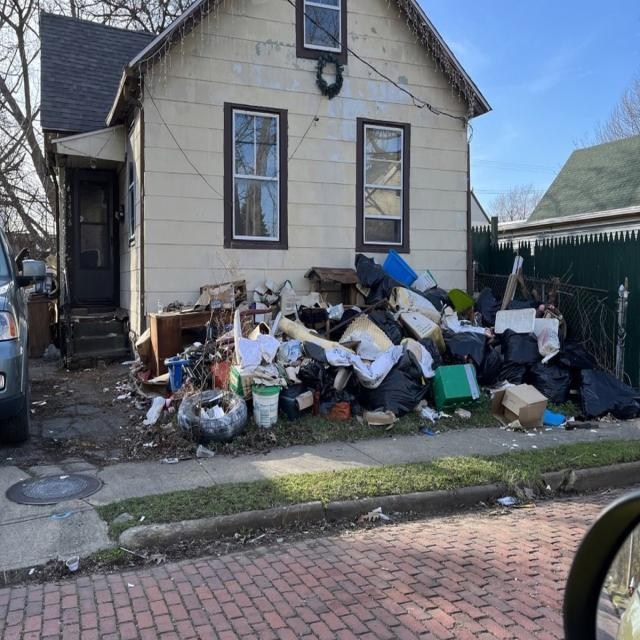House: (40, 0, 493, 375)
